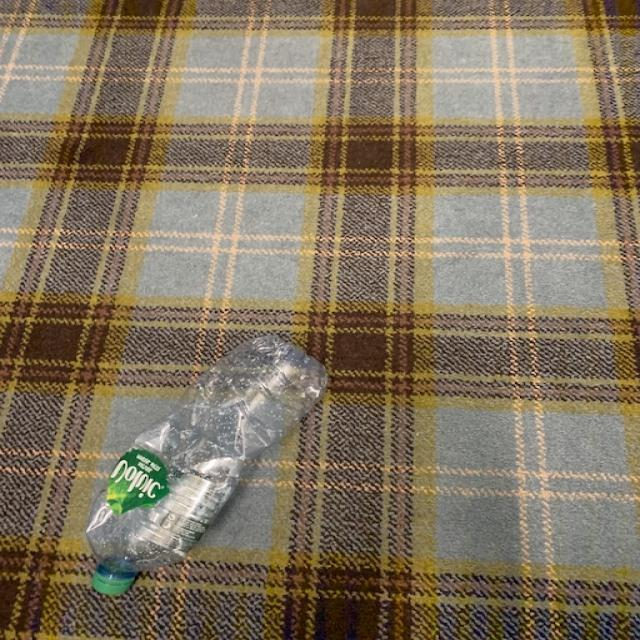plastic_bottle: (85, 334, 329, 595)
